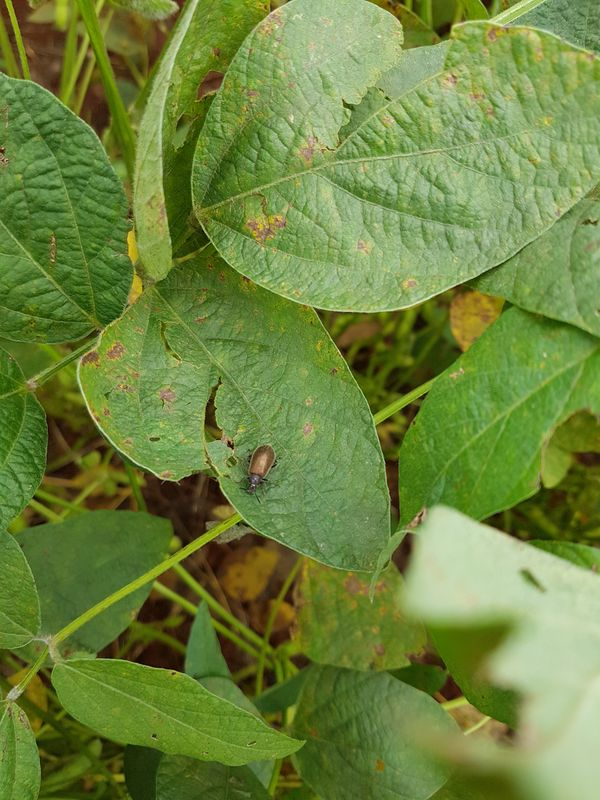Lagria_villosa: (233, 441, 284, 503)
